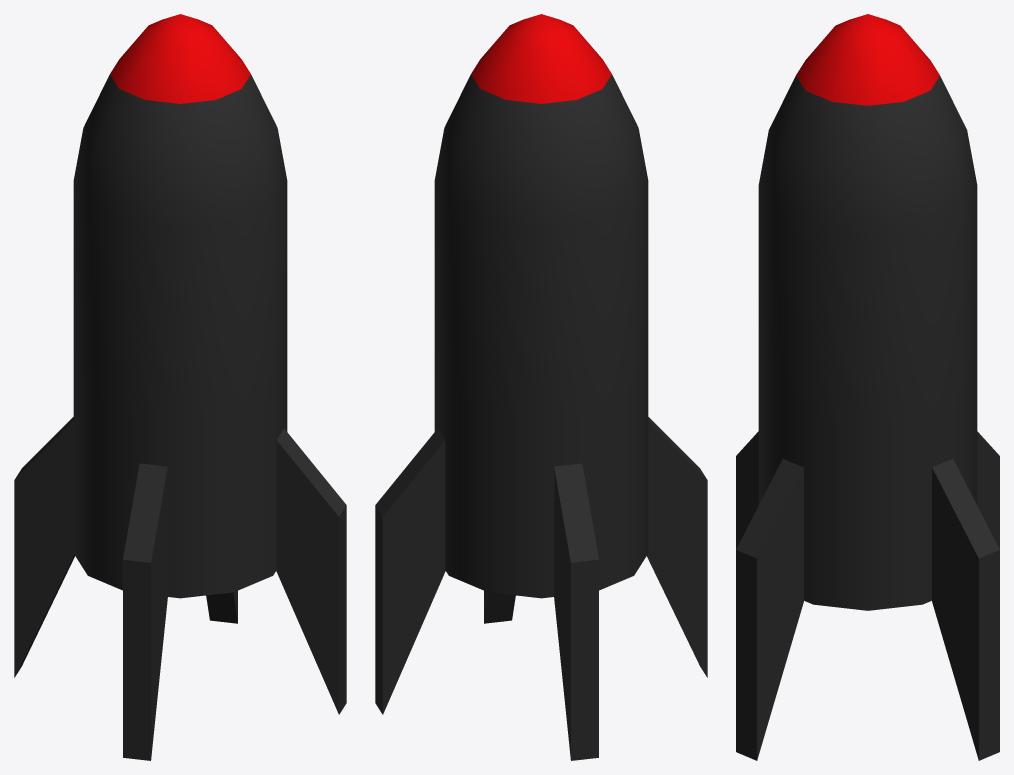
Rendered from Rocket.fbx.
3 renders of one model, left to right at view 1: azimuth 30°, elevation 25°; view 2: azimuth 150°, elevation 25°; view 3: azimuth 270°, elevation 25°, orthographic. The views are drawn at different scales.
Parts seen in each view (by area): view 1: Cylinder; view 2: Cylinder; view 3: Cylinder.
Boxes of the visible parts, left/top/right/bottom form: Cylinder: left=14, top=14, right=346, bottom=760; Cylinder: left=375, top=14, right=707, bottom=760; Cylinder: left=736, top=14, right=999, bottom=760.
Size of the model in its own units: 241 by 698 by 241.
